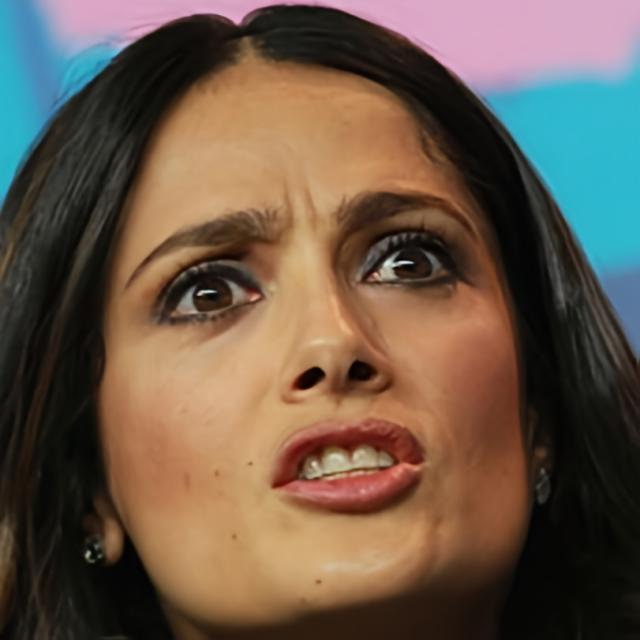disgust: (97, 66, 533, 640)
